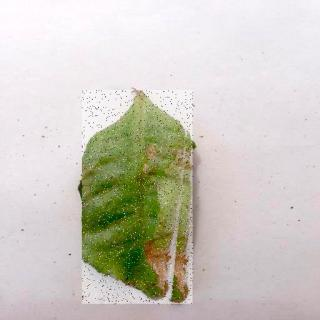Algal Leaf: (84, 91, 195, 306)
